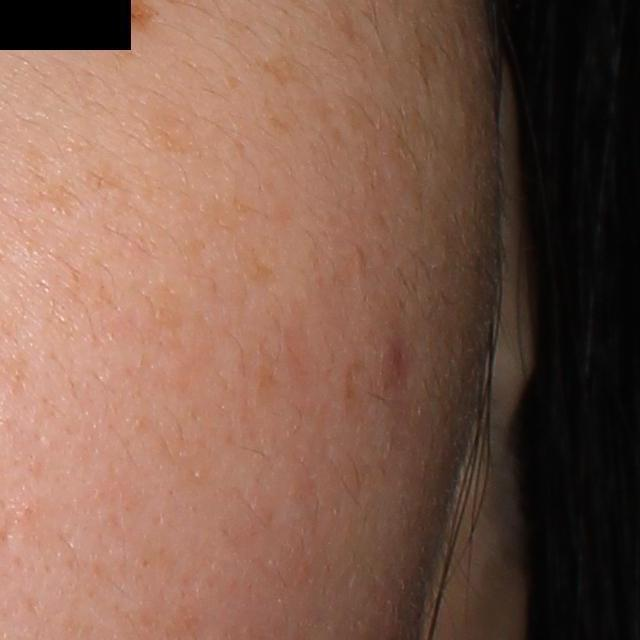melasma: (19, 136, 90, 222), (211, 236, 281, 297), (246, 49, 326, 97)
